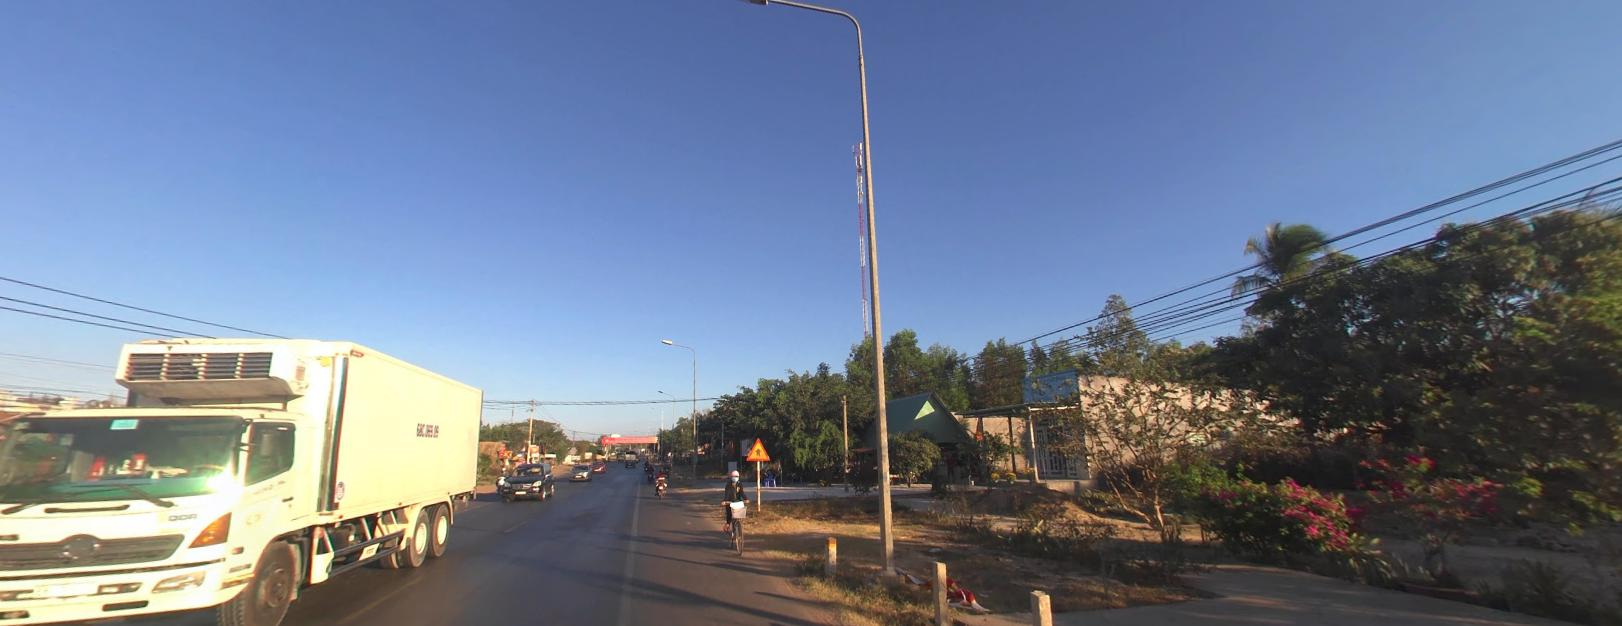Nguy hiem: (745, 435, 770, 460)
